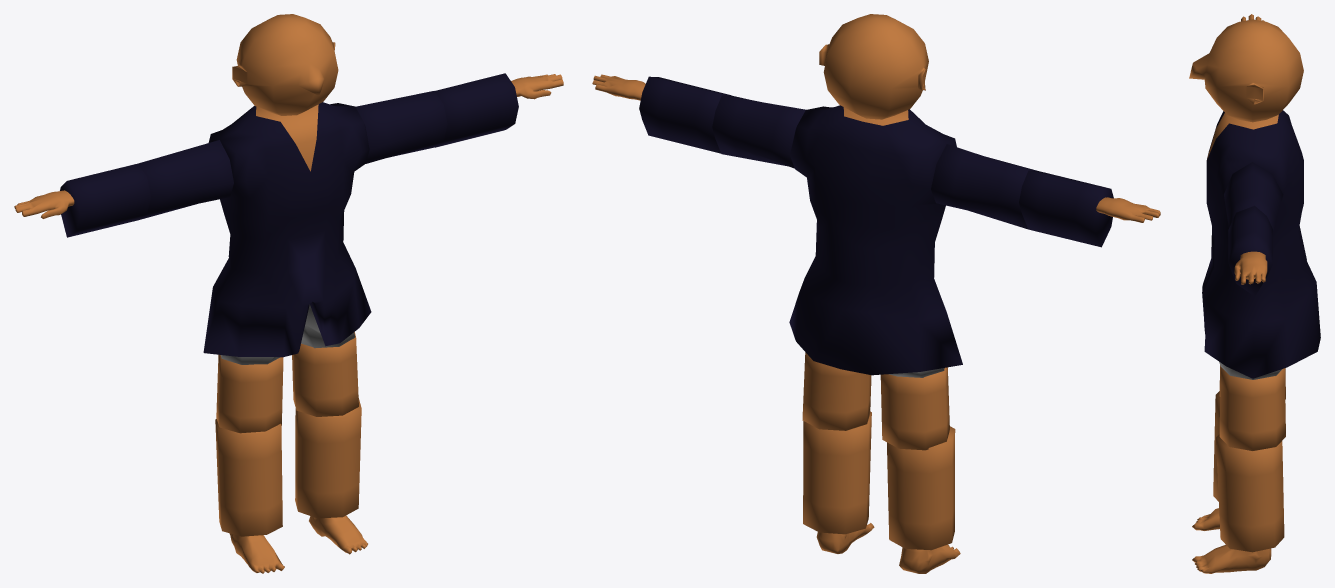
The model's file is Humimaru_000.obj.
3 renders of one model, left to right at view 1: azimuth 30°, elevation 25°; view 2: azimuth 150°, elevation 25°; view 3: azimuth 270°, elevation 25°, orthographic. The views are drawn at different scales.
Visible parts, largest first — view 1: Karateka_Hip Karateka_Body, Karateka_Hip, Karateka_Hip Karateka_Body Karateka_Head, Karateka_Hip Karateka_RightUpLeg Karateka_RightLeg, Karateka_Hip Karateka_LeftUpLeg Karateka_LeftLeg, Karateka_Hip Karateka_Body Karateka_RightArm Karateka_RightForeA, Karateka_Hip Karateka_Body Karateka_LeftArm Karateka_LeftForeArm, Karateka_Hip Karateka_Body Karateka_RightArm, Karateka_Hip Karateka_Body Karateka_LeftArm, Karateka_Hip Karateka_RightUpLeg, Karateka_Hip Karateka_LeftUpLeg, Karateka_Hip Karateka_RightUpLeg Karateka_RightLeg Karateka_Righ (+1 smaller); view 2: Karateka_Hip Karateka_Body, Karateka_Hip, Karateka_Hip Karateka_Body Karateka_Head, Karateka_Hip Karateka_LeftUpLeg Karateka_LeftLeg, Karateka_Hip Karateka_RightUpLeg Karateka_RightLeg, Karateka_Hip Karateka_Body Karateka_RightArm Karateka_RightForeA, Karateka_Hip Karateka_Body Karateka_LeftArm Karateka_LeftForeArm, Karateka_Hip Karateka_Body Karateka_RightArm, Karateka_Hip Karateka_RightUpLeg, Karateka_Hip Karateka_Body Karateka_LeftArm, Karateka_Hip Karateka_LeftUpLeg, Karateka_Hip Karateka_RightUpLeg Karateka_RightLeg Karateka_Righ (+1 smaller); view 3: Karateka_Hip, Karateka_Hip Karateka_Body, Karateka_Hip Karateka_Body Karateka_Head, Karateka_Hip Karateka_LeftUpLeg Karateka_LeftLeg, Karateka_Hip Karateka_LeftUpLeg, Karateka_Hip Karateka_Body Karateka_LeftArm Karateka_LeftForeArm, Karateka_Hip Karateka_Body Karateka_LeftArm, Karateka_Hip Karateka_LeftUpLeg Karateka_LeftLeg Karateka_LeftFo, Karateka_Hip Karateka_RightUpLeg Karateka_RightLeg, Karateka_Hip Karateka_RightUpLeg Karateka_RightLeg Karateka_Righ.
Boxes of the visible parts, x1=… form: Karateka_Hip Karateka_Body: x1=208, y1=102, x2=369, y2=273; Karateka_Hip: x1=203, y1=242, x2=371, y2=364; Karateka_Hip Karateka_Body Karateka_Head: x1=232, y1=14, x2=338, y2=115; Karateka_Hip Karateka_RightUpLeg Karateka_RightLeg: x1=215, y1=419, x2=282, y2=536; Karateka_Hip Karateka_LeftUpLeg Karateka_LeftLeg: x1=295, y1=398, x2=361, y2=518; Karateka_Hip Karateka_Body Karateka_RightArm Karateka_RightForeA: x1=14, y1=163, x2=150, y2=237; Karateka_Hip Karateka_Body Karateka_LeftArm Karateka_LeftForeArm: x1=434, y1=73, x2=563, y2=147; Karateka_Hip Karateka_Body Karateka_RightArm: x1=138, y1=140, x2=233, y2=220; Karateka_Hip Karateka_Body Karateka_LeftArm: x1=355, y1=91, x2=447, y2=163; Karateka_Hip Karateka_RightUpLeg: x1=216, y1=354, x2=283, y2=433; Karateka_Hip Karateka_LeftUpLeg: x1=292, y1=332, x2=358, y2=416; Karateka_Hip Karateka_RightUpLeg Karateka_RightLeg Karateka_Righ: x1=229, y1=533, x2=284, y2=573; Karateka_Hip Karateka_Body: x1=790, y1=105, x2=956, y2=286; Karateka_Hip: x1=789, y1=256, x2=962, y2=377; Karateka_Hip Karateka_Body Karateka_Head: x1=819, y1=14, x2=928, y2=119; Karateka_Hip Karateka_LeftUpLeg Karateka_LeftLeg: x1=803, y1=411, x2=871, y2=534; Karateka_Hip Karateka_RightUpLeg Karateka_RightLeg: x1=887, y1=426, x2=955, y2=550; Karateka_Hip Karateka_Body Karateka_RightArm Karateka_RightForeA: x1=1019, y1=170, x2=1160, y2=247; Karateka_Hip Karateka_Body Karateka_LeftArm Karateka_LeftForeArm: x1=592, y1=74, x2=731, y2=153; Karateka_Hip Karateka_Body Karateka_RightArm: x1=931, y1=144, x2=1037, y2=229; Karateka_Hip Karateka_RightUpLeg: x1=880, y1=367, x2=949, y2=450; Karateka_Hip Karateka_Body Karateka_LeftArm: x1=712, y1=95, x2=806, y2=168; Karateka_Hip Karateka_LeftUpLeg: x1=802, y1=352, x2=871, y2=430; Karateka_Hip Karateka_RightUpLeg Karateka_RightLeg Karateka_Righ: x1=899, y1=544, x2=960, y2=573; Karateka_Hip: x1=1202, y1=260, x2=1320, y2=379; Karateka_Hip Karateka_Body: x1=1206, y1=110, x2=1306, y2=285; Karateka_Hip Karateka_Body Karateka_Head: x1=1189, y1=19, x2=1303, y2=122; Karateka_Hip Karateka_LeftUpLeg Karateka_LeftLeg: x1=1216, y1=434, x2=1284, y2=552; Karateka_Hip Karateka_LeftUpLeg: x1=1219, y1=367, x2=1285, y2=450; Karateka_Hip Karateka_Body Karateka_LeftArm Karateka_LeftForeArm: x1=1228, y1=205, x2=1272, y2=296; Karateka_Hip Karateka_Body Karateka_LeftArm: x1=1224, y1=162, x2=1283, y2=230; Karateka_Hip Karateka_LeftUpLeg Karateka_LeftLeg Karateka_LeftFo: x1=1192, y1=545, x2=1271, y2=573; Karateka_Hip Karateka_RightUpLeg Karateka_RightLeg: x1=1213, y1=391, x2=1219, y2=501; Karateka_Hip Karateka_RightUpLeg Karateka_RightLeg Karateka_Righ: x1=1192, y1=508, x2=1219, y2=530.
Bounding box in the file's own units: 182 × 167 × 37.97.
